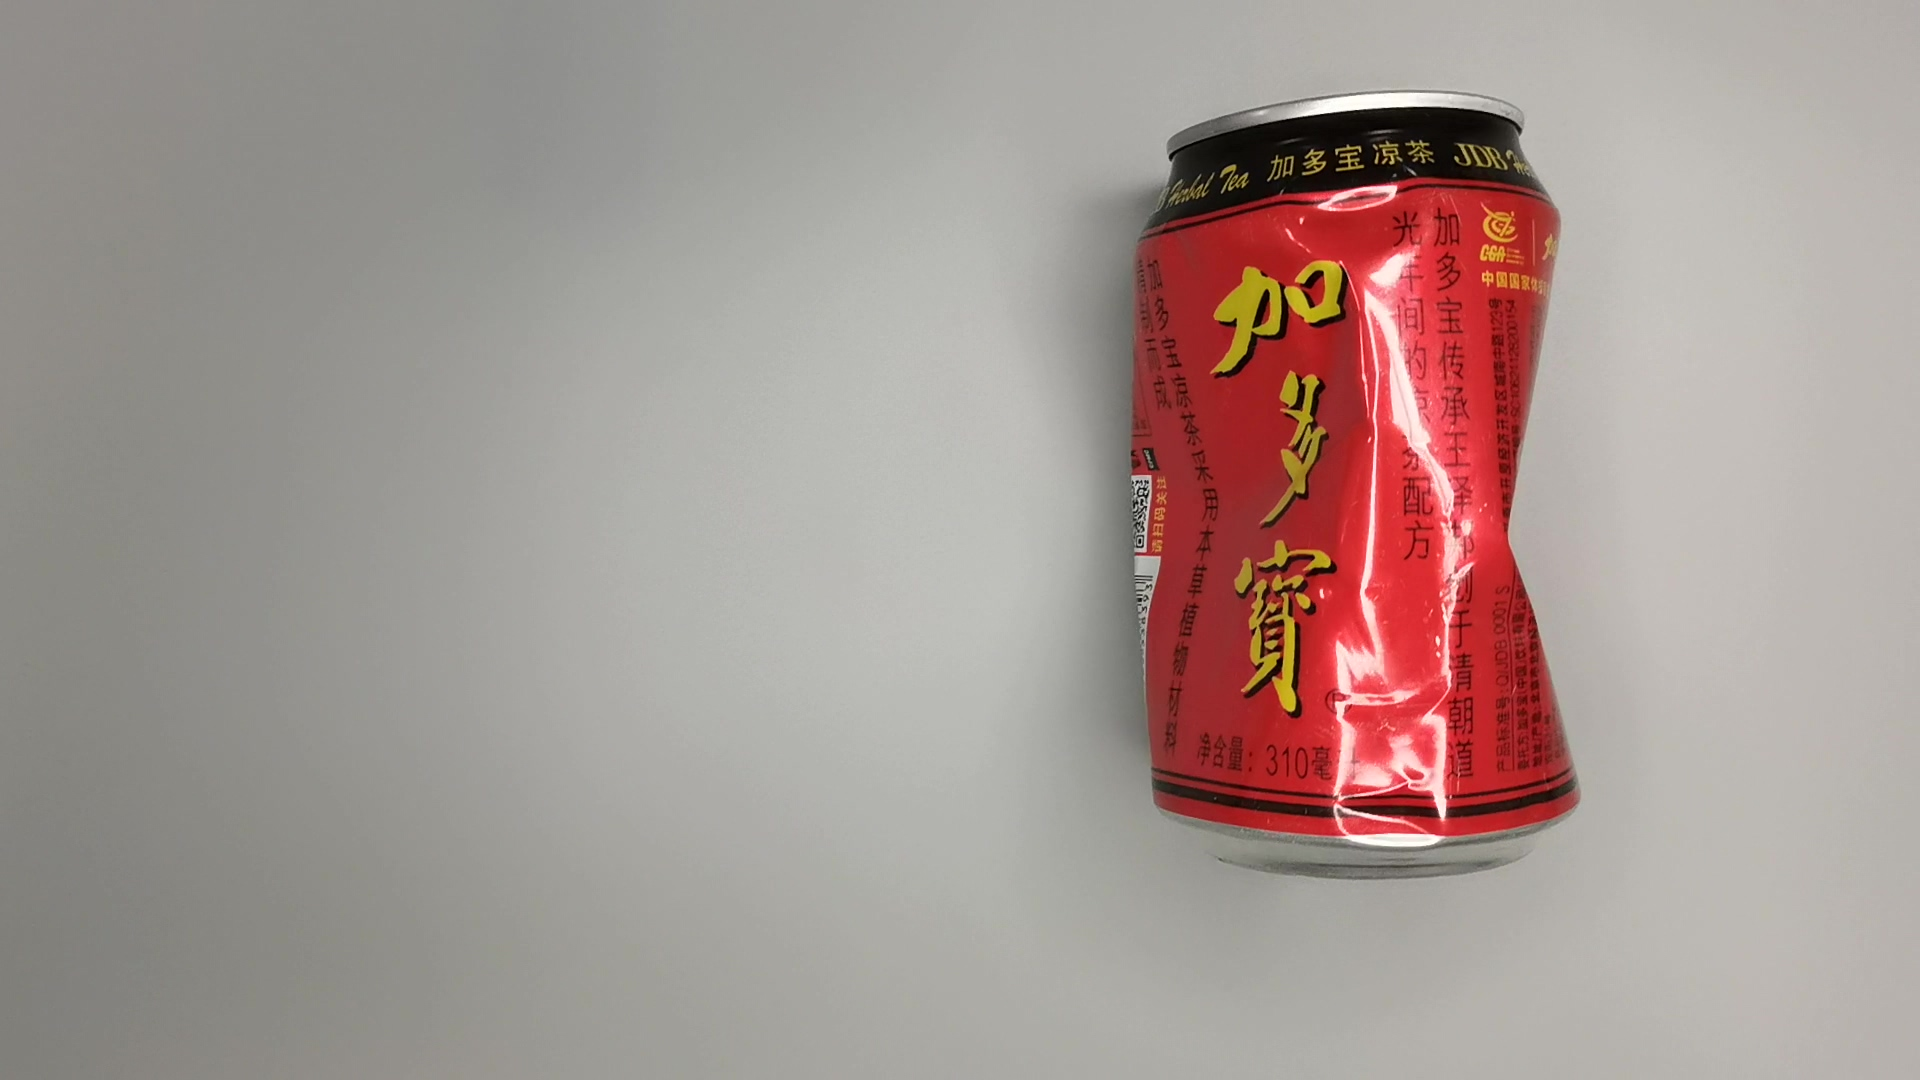can: (1125, 78, 1617, 898)
